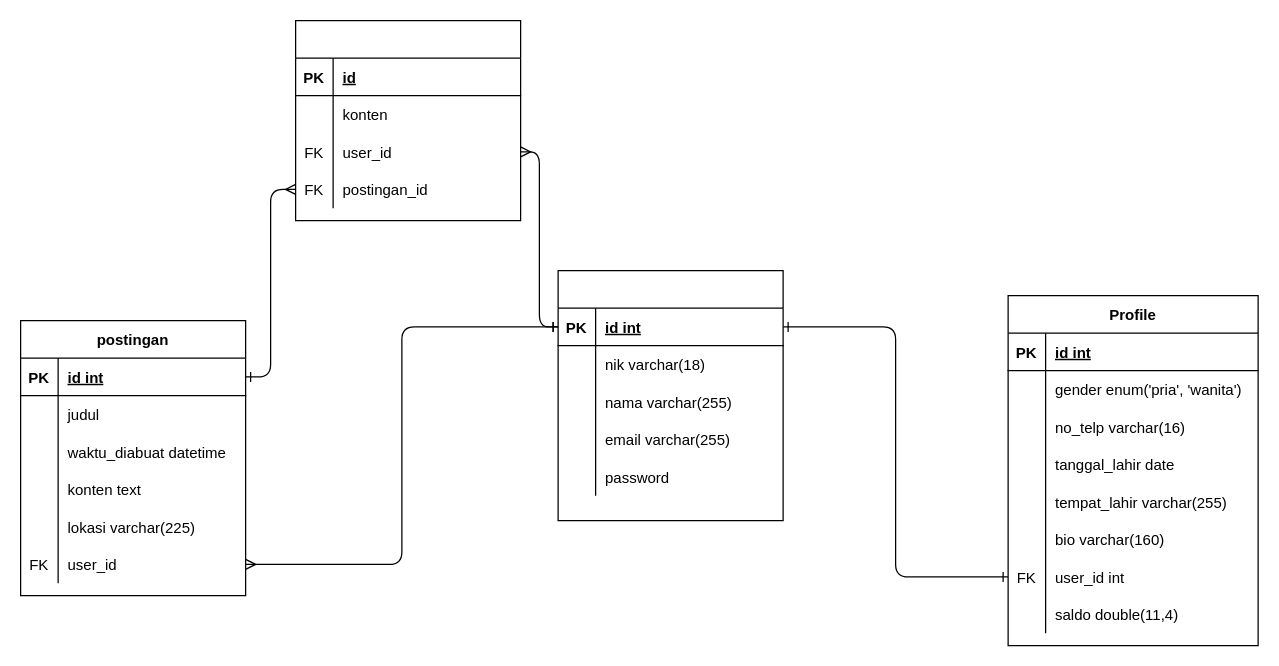
Image size: 1279x666. Some labels were removed from this diagram. Each missing label, with the box of its shape:
komentar: (294, 19, 521, 221)
Users: (557, 269, 783, 521)
